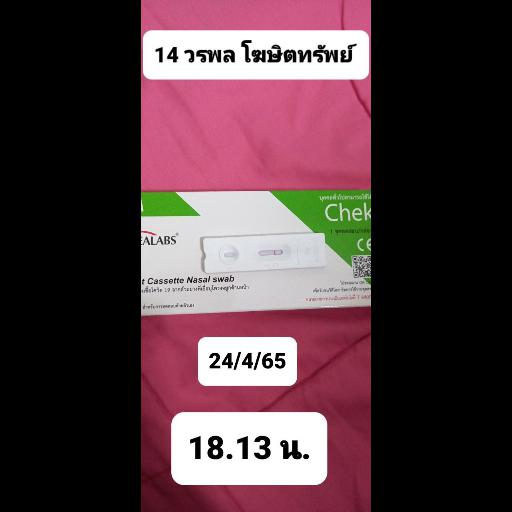Neg: (202, 232, 327, 273)
